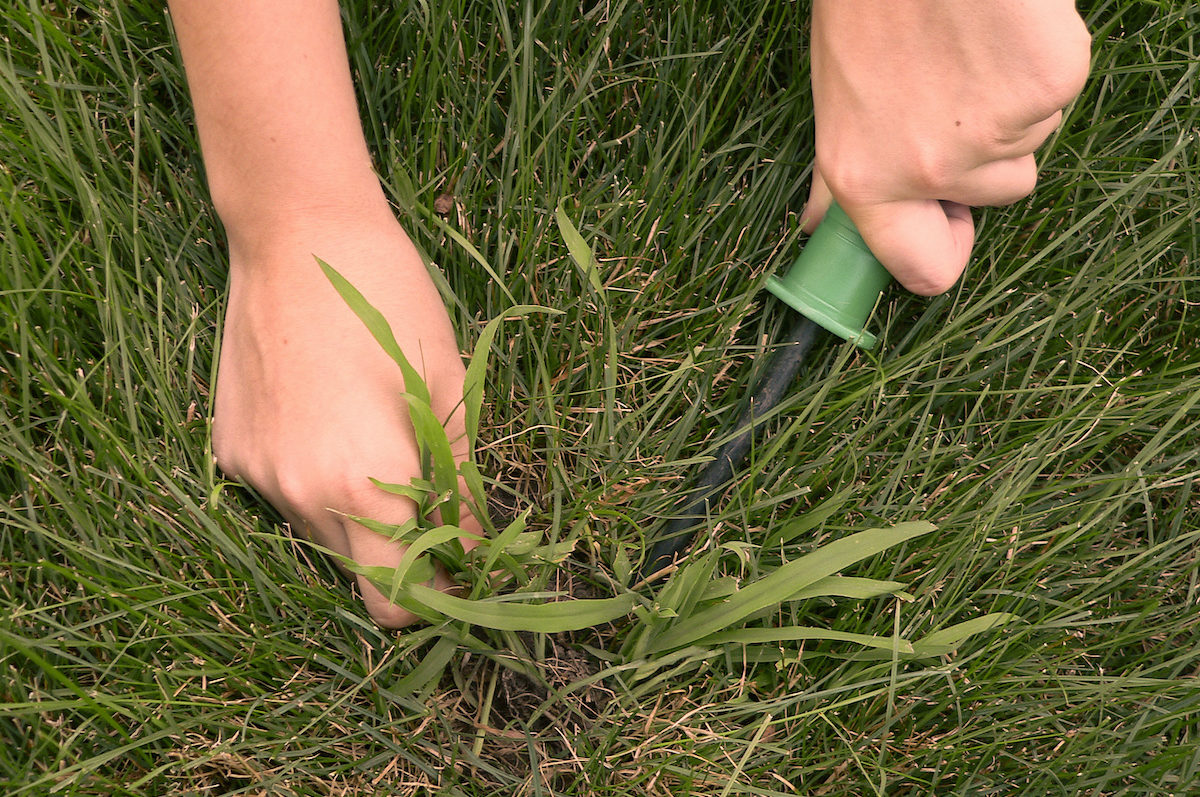crabgrass: (314, 414, 935, 756)
